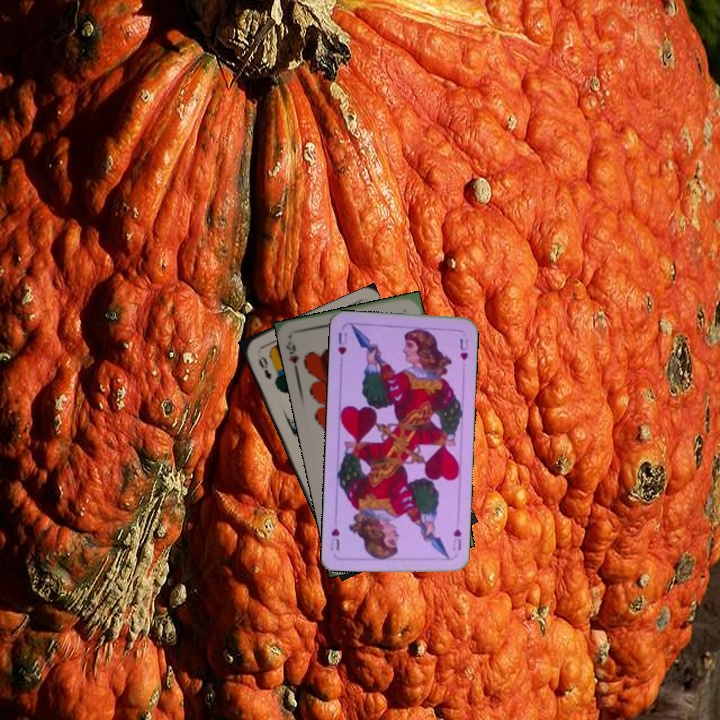EO: (254, 353, 274, 382)
H9: (282, 337, 302, 375)
HU: (334, 328, 350, 358), (449, 525, 464, 553)
